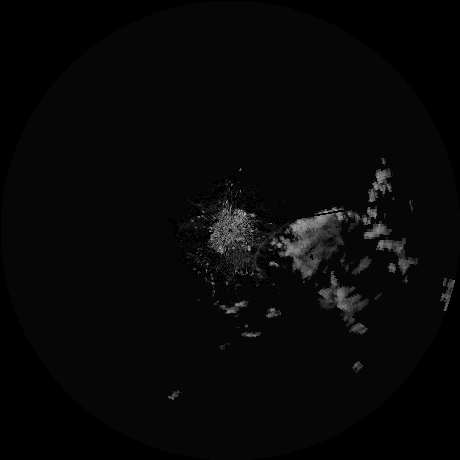frontgust: (251, 240, 262, 273)
